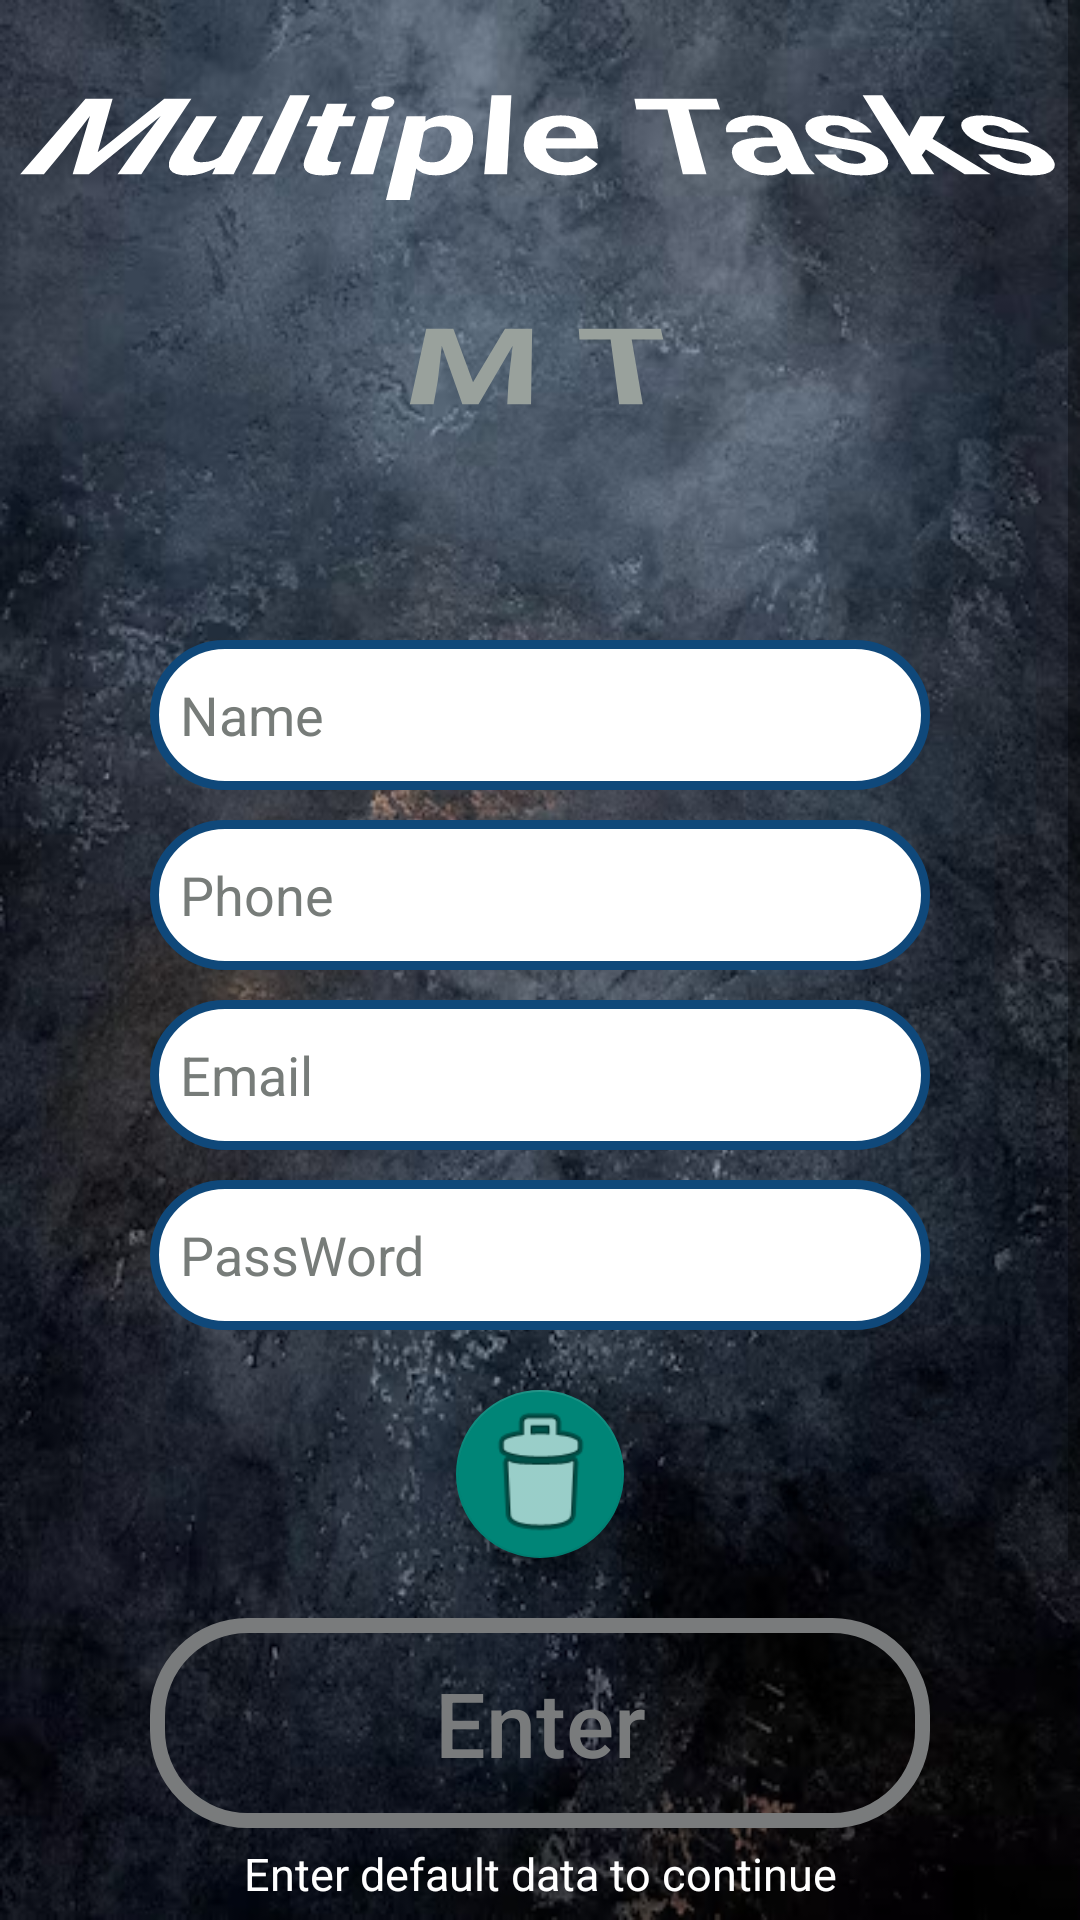

Icons on this 1080px x 1920px Android screen, each with its box as box(x1, y1, x2, y2):
delete: box(456, 1390, 624, 1558)
